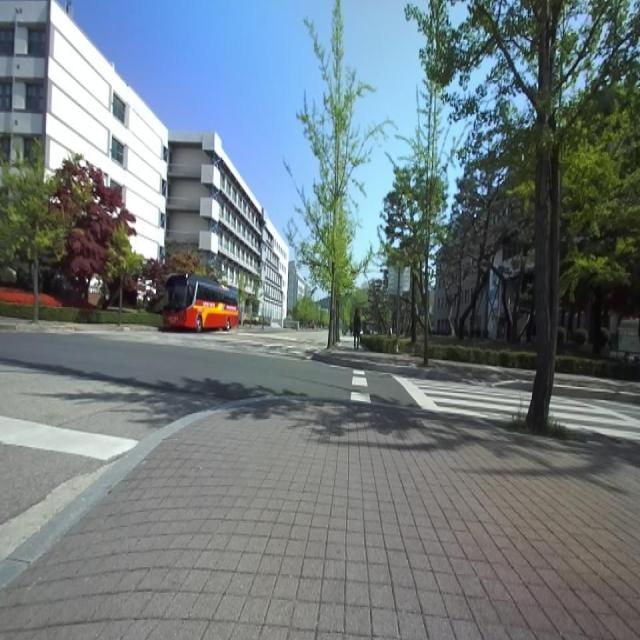sidewalk: (0, 402, 640, 639)
